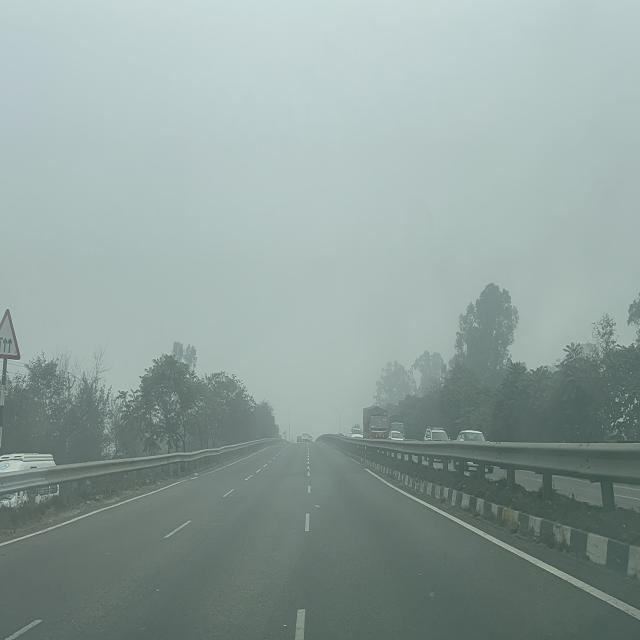WARNING: (0, 306, 22, 366)
